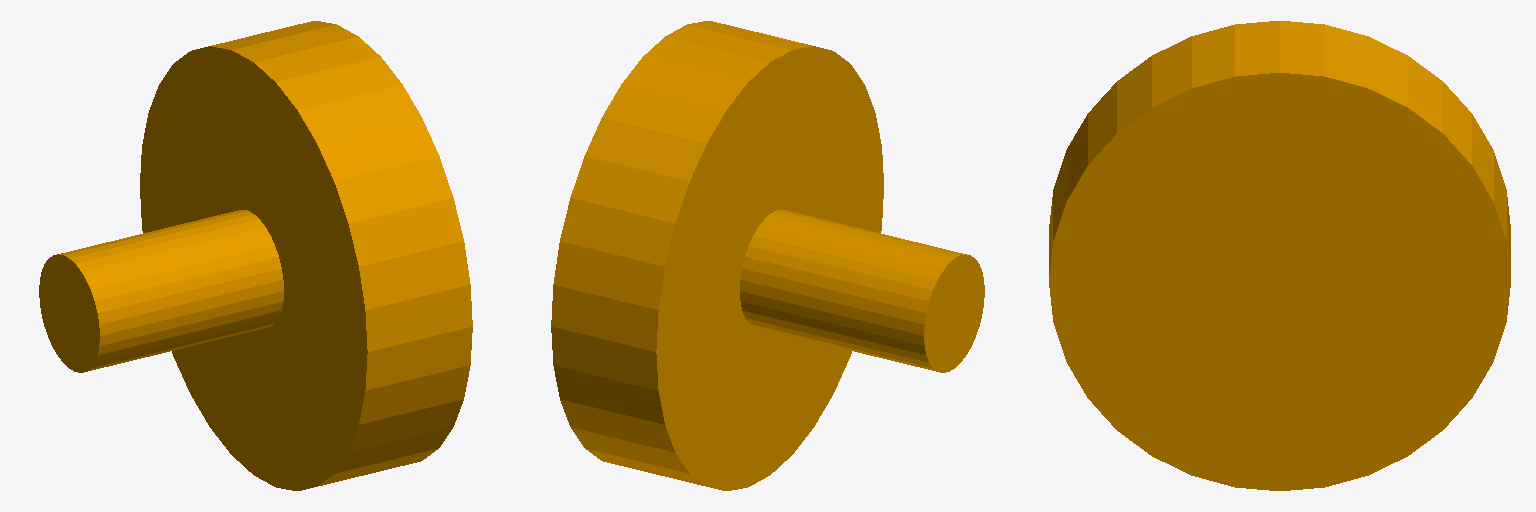
The robot description file, URDF, robot "panda":
<?xml version='1.0' encoding='utf-8'?>
<robot name="panda">

    <link name="link0">
      <inertial>
        <origin xyz="0 0 0.05" rpy="0 0 0" />
        <mass value="4" />
        <inertia ixx="0.4" iyy="0.4" izz="0.4" ixy="0" ixz="0" iyz="0" />
      </inertial>
      <visual>
        <geometry>
          <mesh filename="../../../models/panda/meshes/visual/link0.obj"/>
        </geometry>
      </visual>
    </link>
    <link name="link1">
      <inertial>
        <origin xyz="0 0 -0.07" rpy="0 -0 0" />
        <mass value="3" />
        <inertia ixx="0.3" iyy="0.3" izz="0.3" ixy="0" ixz="0" iyz="0" />
      </inertial>
      <visual>
        <geometry>
          <mesh filename="../../../models/panda/meshes/visual/link1.obj"/>
        </geometry>
      </visual>
    </link>
    <link name="link2">
      <inertial>
        <origin xyz="0 -0.1 0" rpy="0 -0 0" />
        <mass value="3" />
        <inertia ixx="0.3" iyy="0.3" izz="0.3" ixy="0" ixz="0" iyz="0" />
      </inertial>
      <visual>
        <geometry>
          <mesh filename="../../../models/panda/meshes/visual/link2.obj"/>
        </geometry>
      </visual>
    </link>
    <link name="link3">
      <inertial>
        <origin xyz="0.04 0 -0.05" rpy="0 -0 0" />
        <mass value="2" />
        <inertia ixx="0.2" iyy="0.2" izz="0.2" ixy="0" ixz="0" iyz="0" />
      </inertial>
      <visual>
        <geometry>
          <mesh filename="../../../models/panda/meshes/visual/link3.obj"/>
        </geometry>
      </visual>
    </link>
    <link name="link4">
      <inertial>
        <origin xyz="-0.04 0.05 0" rpy="0 -0 0" />
        <mass value="2" />
        <inertia ixx="0.2" iyy="0.2" izz="0.2" ixy="0" ixz="0" iyz="0" />
      </inertial>
      <visual>
        <geometry>
          <mesh filename="../../../models/panda/meshes/visual/link4.obj"/>
        </geometry>
      </visual>   
    </link>
    <link name="link5">
      <inertial>
        <origin xyz="0 0 -0.15" rpy="0 -0 0" />
        <mass value="2" />
        <inertia ixx="0.2" iyy="0.2" izz="0.2" ixy="0" ixz="0" iyz="0" />
      </inertial>
      <visual>
        <geometry>
          <mesh filename="../../../models/panda/meshes/visual/link5.obj"/>
        </geometry>
      </visual>
    </link>
    <link name="link6">
      <inertial>
        <origin xyz="0.06 0 0" rpy="0 -0 0" />
        <mass value="1.5" />
        <inertia ixx="0.1" iyy="0.1" izz="0.1" ixy="0" ixz="0" iyz="0" />
      </inertial>
      <visual>
        <geometry>
          <mesh filename="../../../models/panda/meshes/visual/link6.obj"/>
        </geometry>
      </visual>
    </link>
    <link name="link7">
      <inertial>
        <origin xyz="0 0 0.17" rpy="0 -0 0" />
        <mass value="1.8" />
        <inertia ixx="0.09" iyy="0.05" izz="0.07" ixy="0" ixz="0" iyz="0" />
      </inertial>
      <visual>
        <geometry>
          <mesh filename="../../../models/panda/meshes/visual/link7.obj"/>
        </geometry>
      </visual>
    </link>
    <link name="end-effector">
      <inertial>
        <origin xyz="0 0 0" rpy="0 -0 0" />
        <mass value="0.2" />
        <inertia ixx="0.01" iyy="0.01" izz="0.01" ixy="0" ixz="0" iyz="0" />
      </inertial>
      <visual>
        <origin xyz="0.0 0.0 0.1" rpy="0.0 0.0 0.0"/>
        <geometry>
          <cylinder radius="0.0375" length="0.02" />
        </geometry>
      </visual>
      <visual>
        <origin xyz="0.0 0.0 0.12" rpy="0.0 0.0 0.0"/>
        <geometry>
          <cylinder radius="0.01" length="0.05" />
        </geometry>
      </visual>
      <!-- <collision>
        <origin xyz="0.0 0.0 0.12" rpy="0.0 0.0 0.0"/>
        <geometry>
          <cylinder radius="0.008" length="0.05" />
        </geometry>
      </collision> -->
      <!-- <visual>
        <origin xyz="0.0 0.0 0.17" rpy="0.0 0.0 0.0"/>
          <geometry>
            <sphere radius= "0.01" />
          </geometry>
      </visual> -->
    </link>
  
    <joint name="joint1" type="revolute">
      <safety_controller k_position="100.0" k_velocity="40.0" soft_lower_limit="-2.8973" soft_upper_limit="2.8973"/>
      <origin rpy="0 0 0" xyz="0 0 0.333"/>
      <parent link="link0"/>
      <child link="link1"/>
      <axis xyz="0 0 1"/>
      <calibration falling="0.0" />
      <limit effort="87" lower="-2.8973" upper="2.8973" velocity="2.1750"/>
    </joint>
    <joint name="joint2" type="revolute">
      <safety_controller k_position="100.0" k_velocity="40.0" soft_lower_limit="-1.7628" soft_upper_limit="1.7628"/>
      <origin rpy="-1.57079632679 0 0" xyz="0 0 0"/>
      <parent link="link1"/>
      <child link="link2"/>
      <axis xyz="0 0 1"/>
      <calibration falling="-25.0" />
      <limit effort="87" lower="-1.7628" upper="1.7628" velocity="2.1750"/>
    </joint>
    <joint name="joint3" type="revolute">
      <safety_controller k_position="100.0" k_velocity="40.0" soft_lower_limit="-2.8973" soft_upper_limit="2.8973"/>
      <origin rpy="1.57079632679 0 0" xyz="0 -0.316 0"/>
      <parent link="link2"/>
      <child link="link3"/>
      <axis xyz="0 0 1"/>
      <limit effort="87" lower="-2.8973" upper="2.8973" velocity="2.1750"/>
    </joint>
    <joint name="joint4" type="revolute">
      <safety_controller k_position="100.0" k_velocity="40.0" soft_lower_limit="-3.0718" soft_upper_limit="-0.0698"/>
      <origin rpy="1.57079632679 0 0" xyz="0.0825 0 0"/>
      <parent link="link3"/>
      <child link="link4"/>
      <axis xyz="0 0 1"/>
      <calibration falling="-135.0" />
      <limit effort="87" lower="-3.0718" upper="-0.0698" velocity="2.1750"/>
    </joint>
    <joint name="joint5" type="revolute">
      <safety_controller k_position="100.0" k_velocity="40.0" soft_lower_limit="-2.8973" soft_upper_limit="2.8973"/>
      <origin rpy="-1.57079632679 0 0" xyz="-0.0825 0.384 0"/>
      <parent link="link4"/>
      <child link="link5"/>
      <axis xyz="0 0 1"/>
      <calibration falling="0.0" />
      <limit effort="12" lower="-2.8973" upper="2.8973" velocity="2.6100"/>
    </joint>
    <joint name="joint6" type="revolute">
      <safety_controller k_position="100.0" k_velocity="40.0" soft_lower_limit="-0.0175" soft_upper_limit="3.7525"/>
      <origin rpy="1.57079632679 0 0" xyz="0 0 0"/>
      <parent link="link5"/>
      <child link="link6"/>
      <axis xyz="0 0 1"/>
      <calibration falling="105.0" />
      <limit effort="12" lower="-0.0175" upper="3.7525" velocity="2.6100"/>
    </joint>
    <joint name="joint7" type="revolute">
      <safety_controller k_position="100.0" k_velocity="40.0" soft_lower_limit="-2.8973" soft_upper_limit="2.8973"/>
      <origin rpy="1.57079632679 0 0" xyz="0.088 0 0"/>
      <parent link="link6"/>
      <child link="link7"/>
      <axis xyz="0 0 1"/>
      <limit effort="12" lower="-2.8973" upper="2.8973" velocity="2.6100"/>
    </joint>
    <joint name="joint_ee" type="fixed">
      <origin rpy="0 0 0" xyz="0 0 0"/>
      <parent link="link7"/>
      <child link="end-effector"/>
    </joint>
</robot>

--- What the picture shows (computed from the rendered views, not written in the file) ---
3 views of the same robot in one strip: view 1: azimuth 30°, elevation 25°; view 2: azimuth 150°, elevation 25°; view 3: azimuth 270°, elevation 25° (orthographic).
Model panda with 9 links and 8 joints (7 revolute, 1 fixed), rooted at link0, posed all joints at 0 but 1 set to mid-range because 0 is outside their limits (joint4 = -1.57).
Visible links, largest first — view 1: end-effector; view 2: end-effector; view 3: end-effector.
Boxes of the visible links, left/top/right/bottom form: end-effector: left=39, top=21, right=472, bottom=490; end-effector: left=551, top=21, right=984, bottom=490; end-effector: left=1049, top=21, right=1510, bottom=490.
Size in the robot's own frame: 0.055 by 0.075 by 0.075 metres.
0 mesh visuals loaded from 8 distinct referenced files (none loaded); not drawn: 8 (reference not matched to a file when rendering).